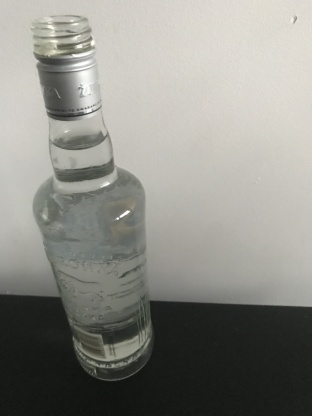nakretka: (28, 13, 103, 122)
